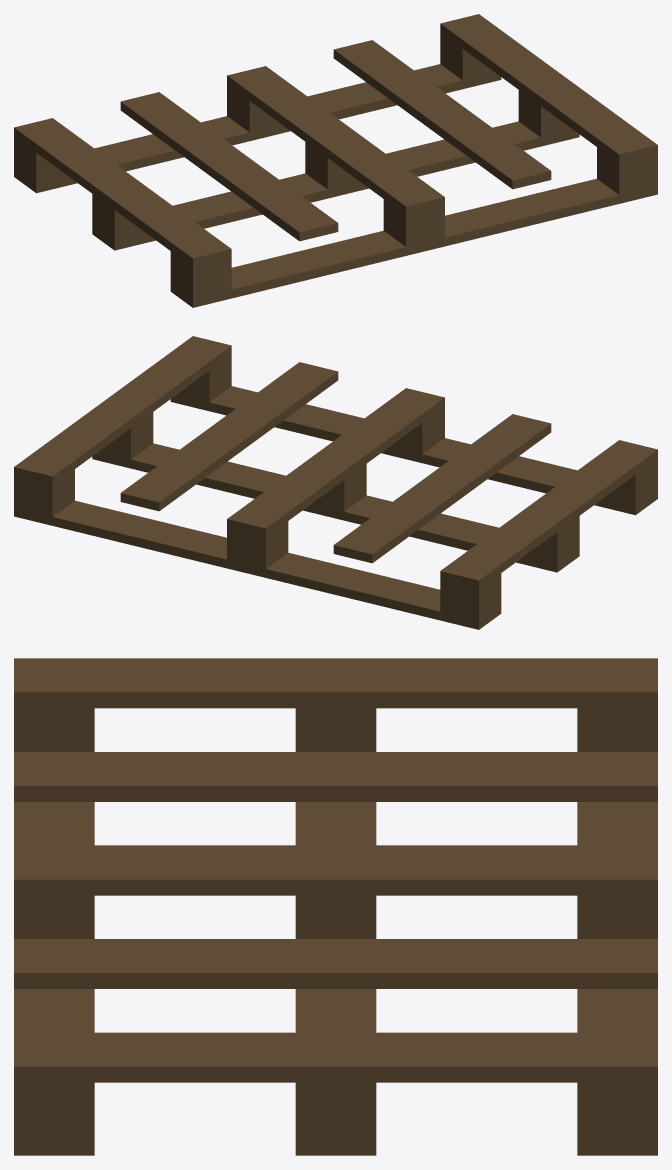
File: pallet.glb
3 renders of one model, top to bottom at view 1: azimuth 30°, elevation 25°; view 2: azimuth 150°, elevation 25°; view 3: azimuth 270°, elevation 25°, orthographic. The views are drawn at different scales.
Visible parts, largest first — view 1: pallet; view 2: pallet; view 3: pallet.
Part boxes in pixels (x1,y1,x2,y2): pallet: (14,14,657,307); pallet: (14,336,657,629); pallet: (14,658,657,1155).
Bounding box in the file's own units: 1.2 × 0.122 × 0.8.
